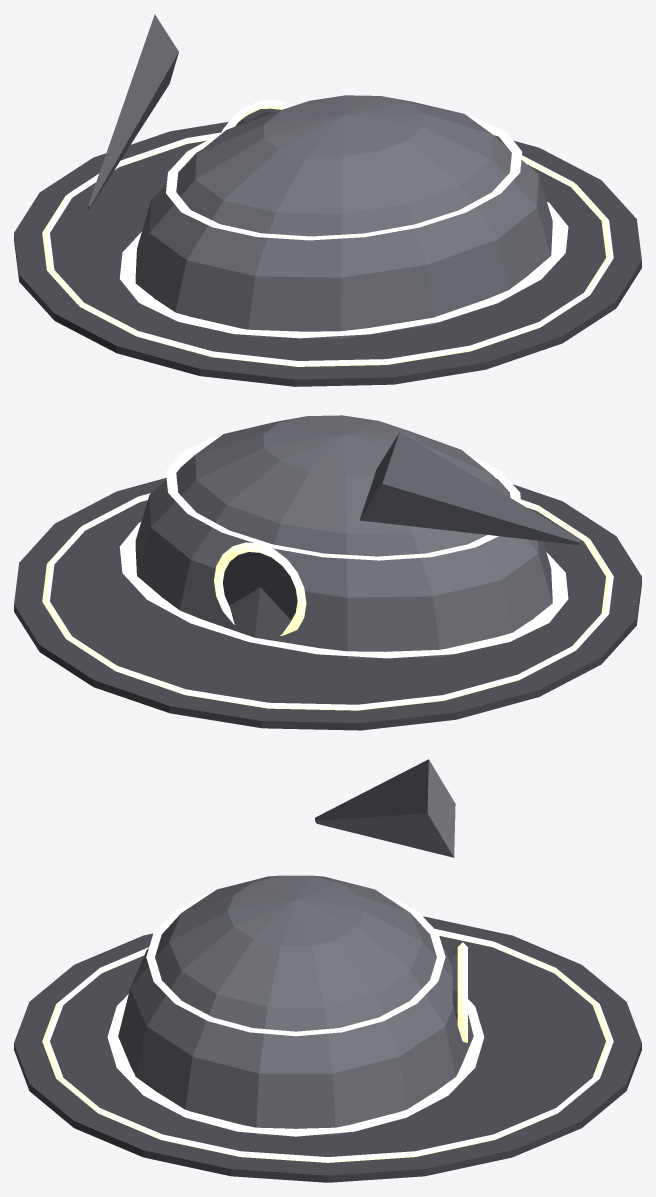
Rendered from zone_low_1.glb.
3 renders of one model, top to bottom at view 1: azimuth 30°, elevation 25°; view 2: azimuth 150°, elevation 25°; view 3: azimuth 270°, elevation 25°, orthographic.
Visible parts, largest first — view 1: zone_low_1, detail; view 2: zone_low_1, detail; view 3: zone_low_1, detail.
Part boxes in pixels (bbox=[...]): zone_low_1: bbox=[14, 14, 641, 386]; detail: bbox=[42, 116, 613, 366]; zone_low_1: bbox=[14, 415, 641, 730]; detail: bbox=[42, 436, 613, 710]; zone_low_1: bbox=[14, 759, 641, 1182]; detail: bbox=[42, 892, 613, 1162].
Size of the model in its own units: 19.6 by 7.97 by 19.6.
